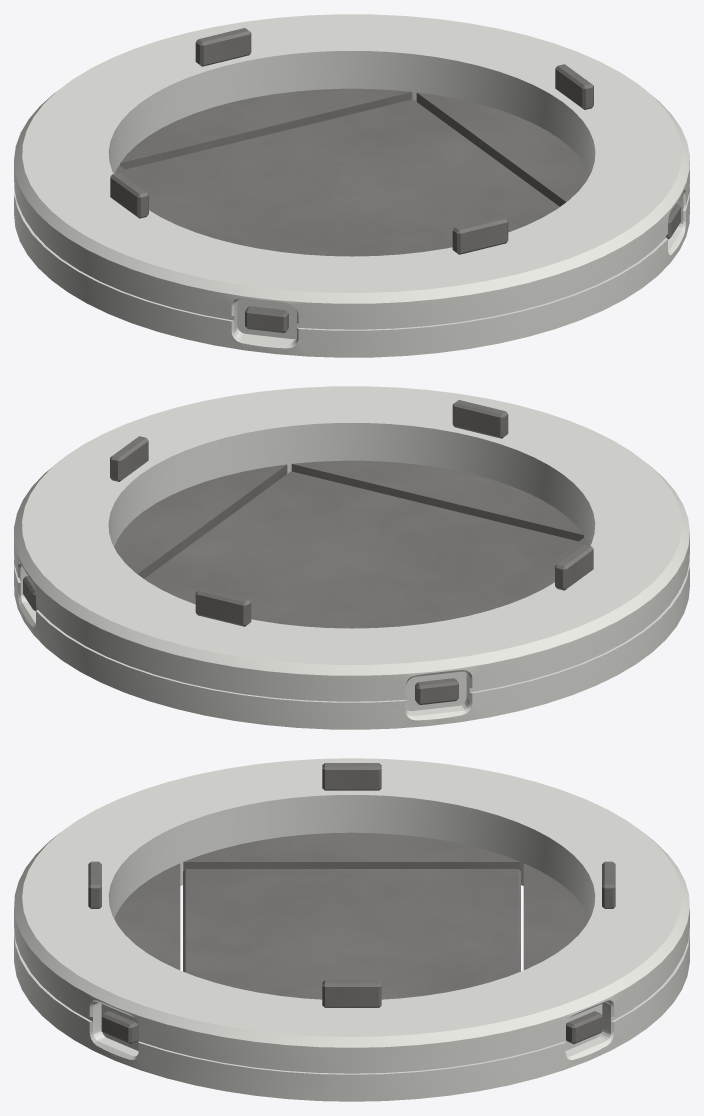
File: ax_util_03_berthing_ring.glb
The picture shows the model from 3 angles, top to bottom: view 1: azimuth 30°, elevation 25°; view 2: azimuth 150°, elevation 25°; view 3: azimuth 270°, elevation 25°; orthographic projection.
Visible parts, largest first — view 1: berthing_ring, hatch_door_1, hatch_bulkhead, alignment_guides, capture_latches; view 2: berthing_ring, hatch_door_1, hatch_bulkhead, alignment_guides, capture_latches; view 3: berthing_ring, hatch_door_1, hatch_bulkhead, alignment_guides, capture_latches.
Boxes of the visible parts, x1,y1,x2,y2 form: berthing_ring: [14, 14, 689, 357]; hatch_door_1: [125, 99, 559, 256]; hatch_bulkhead: [115, 88, 589, 240]; alignment_guides: [110, 28, 593, 254]; capture_latches: [245, 204, 680, 332]; berthing_ring: [14, 386, 689, 729]; hatch_door_1: [144, 471, 578, 628]; hatch_bulkhead: [114, 460, 588, 612]; alignment_guides: [110, 400, 593, 626]; capture_latches: [23, 576, 458, 704]; berthing_ring: [14, 758, 689, 1101]; hatch_door_1: [183, 869, 520, 999]; hatch_bulkhead: [114, 832, 589, 969]; alignment_guides: [88, 763, 615, 1007]; capture_latches: [101, 1011, 602, 1044].
Bounding box in the file's own units: 2.5 × 0.35 × 2.5.
2 materials, 1 textured.
